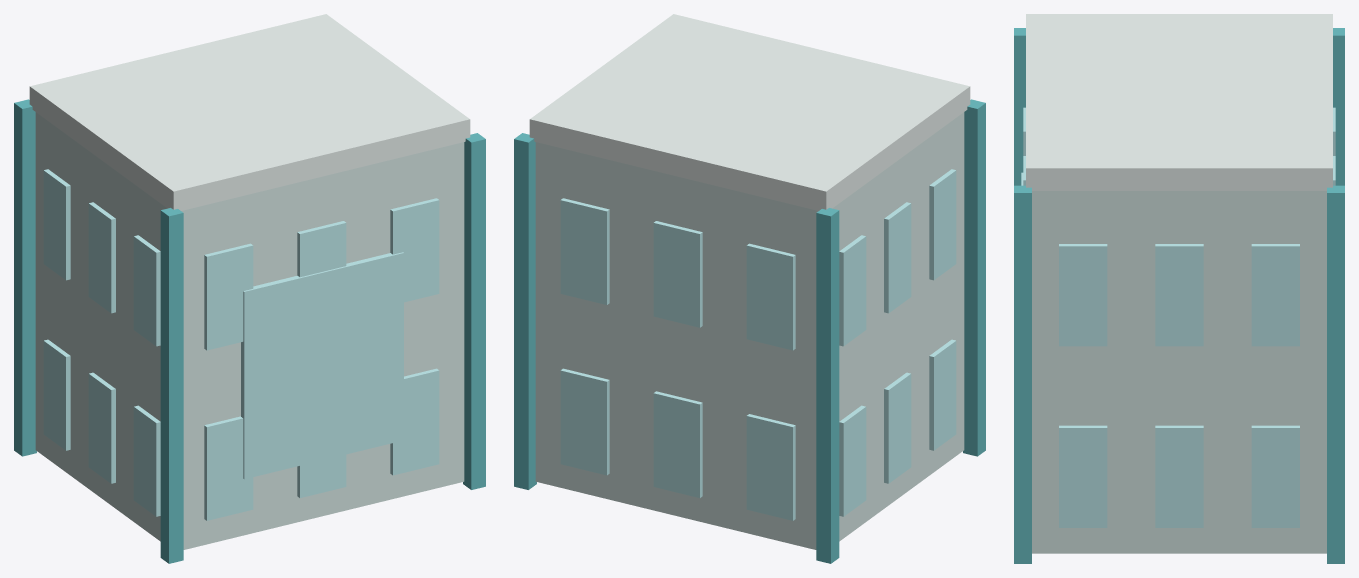
The model's file is shop_b.glb.
The picture shows the model from 3 angles, left to right: view 1: azimuth 30°, elevation 25°; view 2: azimuth 150°, elevation 25°; view 3: azimuth 270°, elevation 25°; orthographic projection. The views are drawn at different scales.
Bounding box in the file's own units: 5.45 × 6.01 × 4.62.
